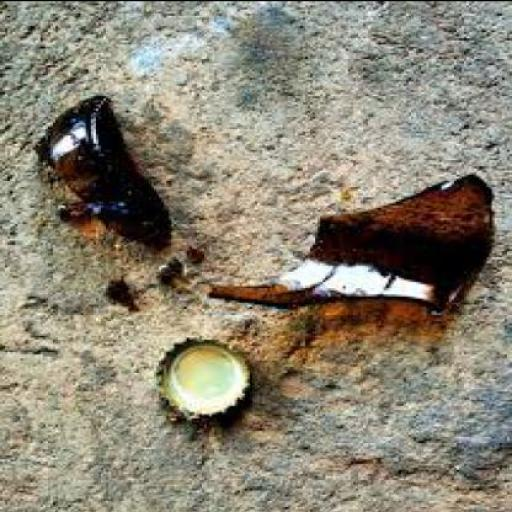glass: (207, 174, 490, 324), (33, 96, 166, 252), (99, 277, 136, 311), (152, 262, 186, 292), (54, 202, 88, 221), (182, 248, 201, 262)
metal: (156, 338, 250, 424)
